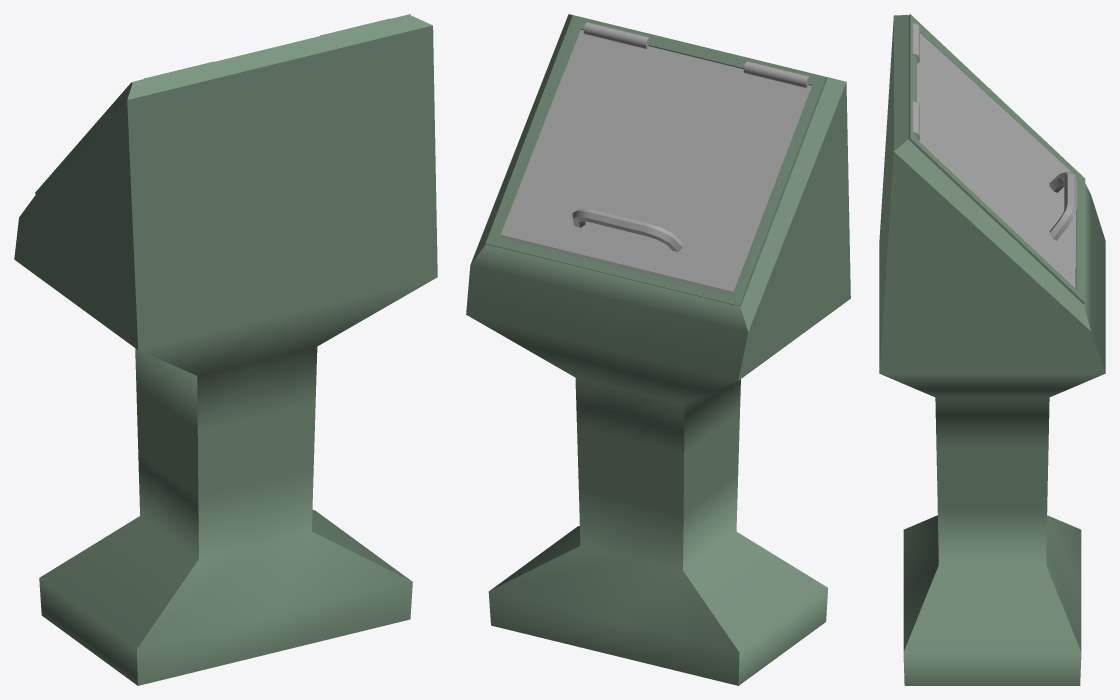
File: StorageSideBox.fbx
The picture shows the model from 3 angles, left to right: view 1: azimuth 30°, elevation 25°; view 2: azimuth 150°, elevation 25°; view 3: azimuth 270°, elevation 25°; orthographic projection. The views are drawn at different scales.
Parts seen in each view (by area): view 1: pasted__pCube4; view 2: pasted__pCube4, hatch1; view 3: pasted__pCube4, hatch1.
Part boxes in pixels (bbox=[...]): pasted__pCube4: bbox=[14, 14, 437, 685]; pasted__pCube4: bbox=[466, 14, 850, 685]; hatch1: bbox=[501, 22, 811, 294]; pasted__pCube4: bbox=[879, 14, 1105, 685]; hatch1: bbox=[912, 23, 1077, 288].
Bounding box in the file's own units: 4.81 × 9.06 × 3.38.
